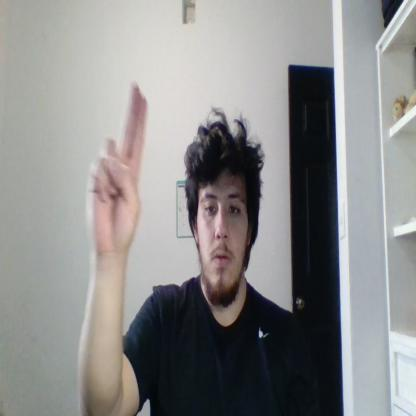U: (86, 82, 147, 254)
